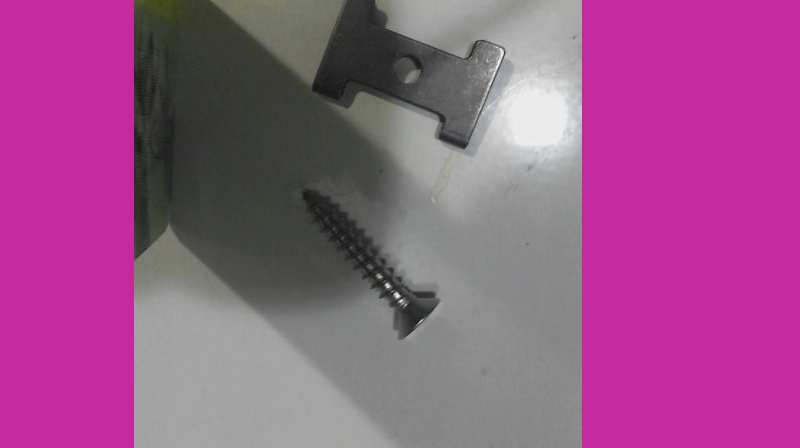O002: (308, 0, 507, 155)
S001: (295, 181, 445, 347)
